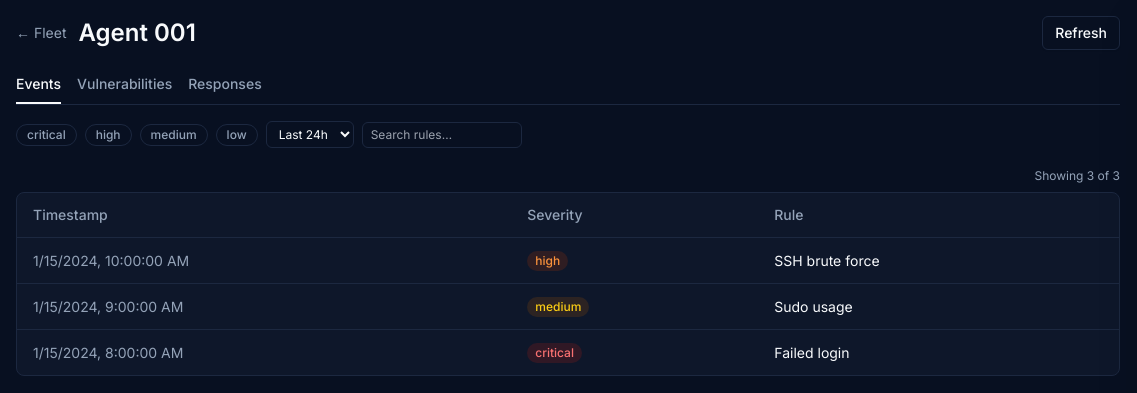
Scenario: AgentDetail — vulnerabilities tab › renders vulnerability list with severity badges and CVE IDs
expect the text "SSH brute force" is shown: met, box left=758, top=238, right=1119, bottom=284
Click the button "vulnerabilities": click(125, 89) left=77, top=74, right=172, bottom=104
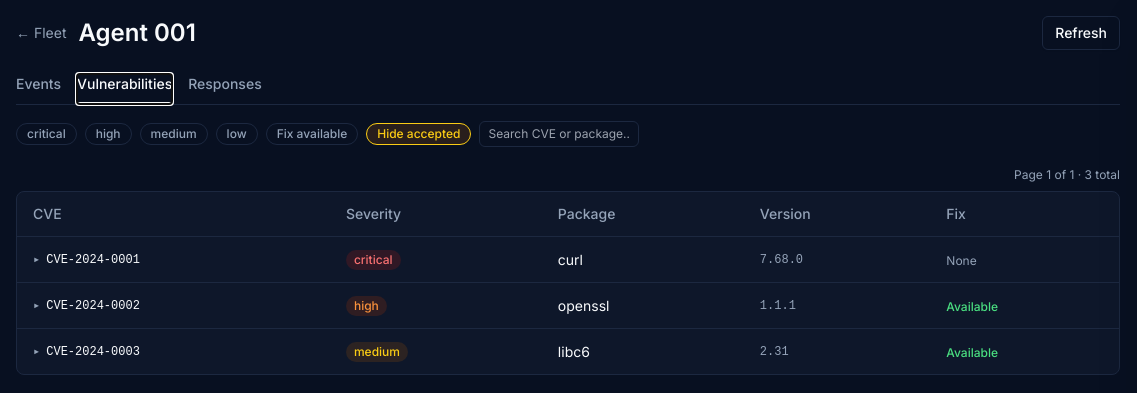
expect the text "CVE-2024-0001" is shown: met, box left=46, top=252, right=140, bottom=266
expect the text "CVE-2024-0002" is shown: met, box left=46, top=298, right=140, bottom=312
expect the text "CVE-2024-0003" is shown: met, box left=46, top=344, right=140, bottom=358
